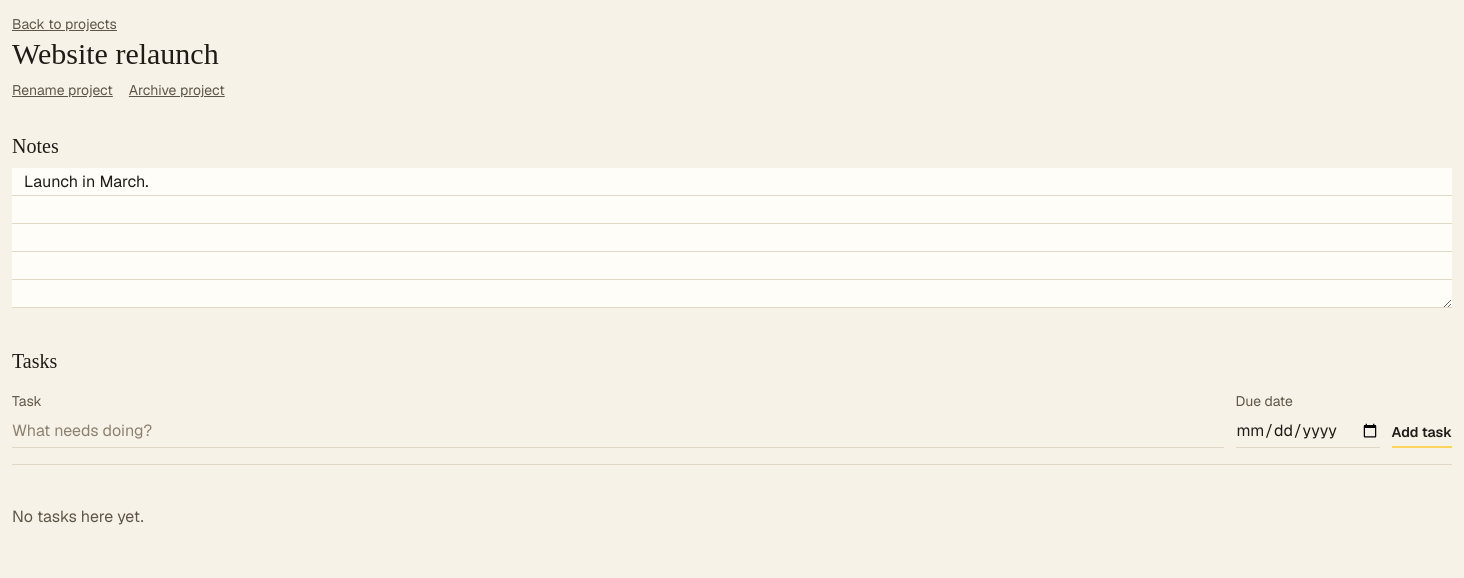
Scenario: Project screen › archives from the project page and stops taking new tasks
Click the button "Archive project" at (177, 90), box [129,80,225,100]
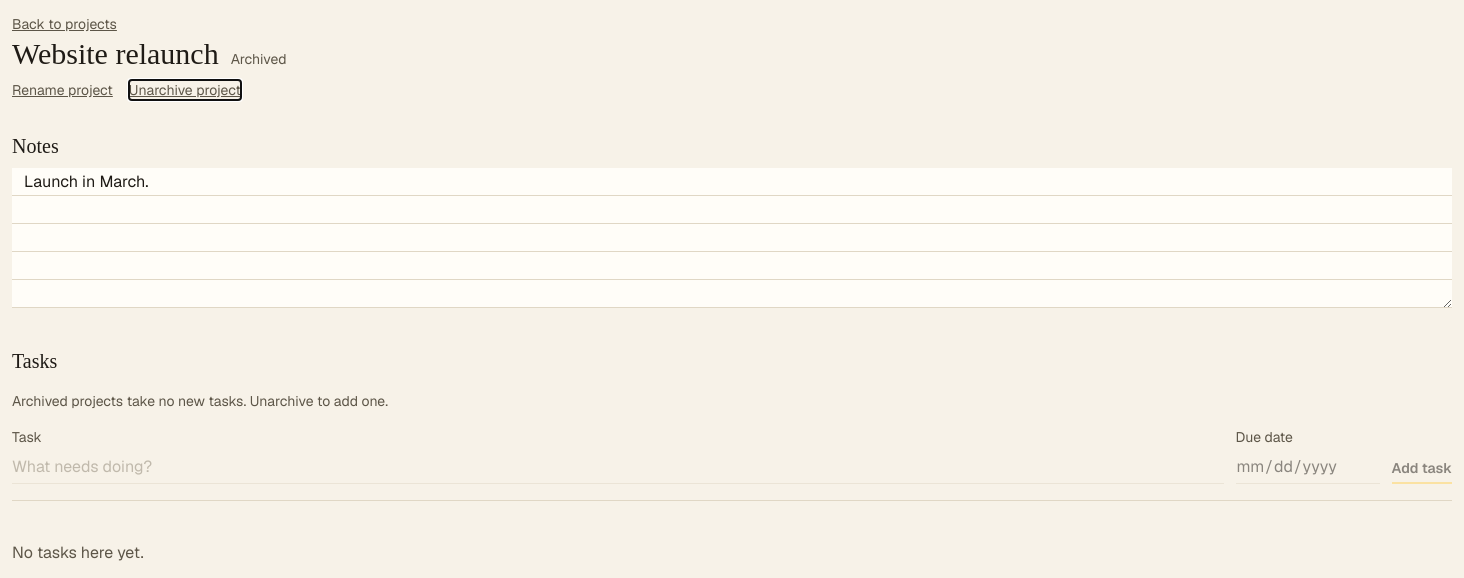
Expected: the text "Archived" is shown, [231,49,286,69]
Expected: the field labelled "Task" is disabled, [12,451,1224,484]
Expected: the button "Add task" is disabled, [1392,454,1452,484]
Click the button "Unarchive project" at (185, 90), box [129,80,241,100]
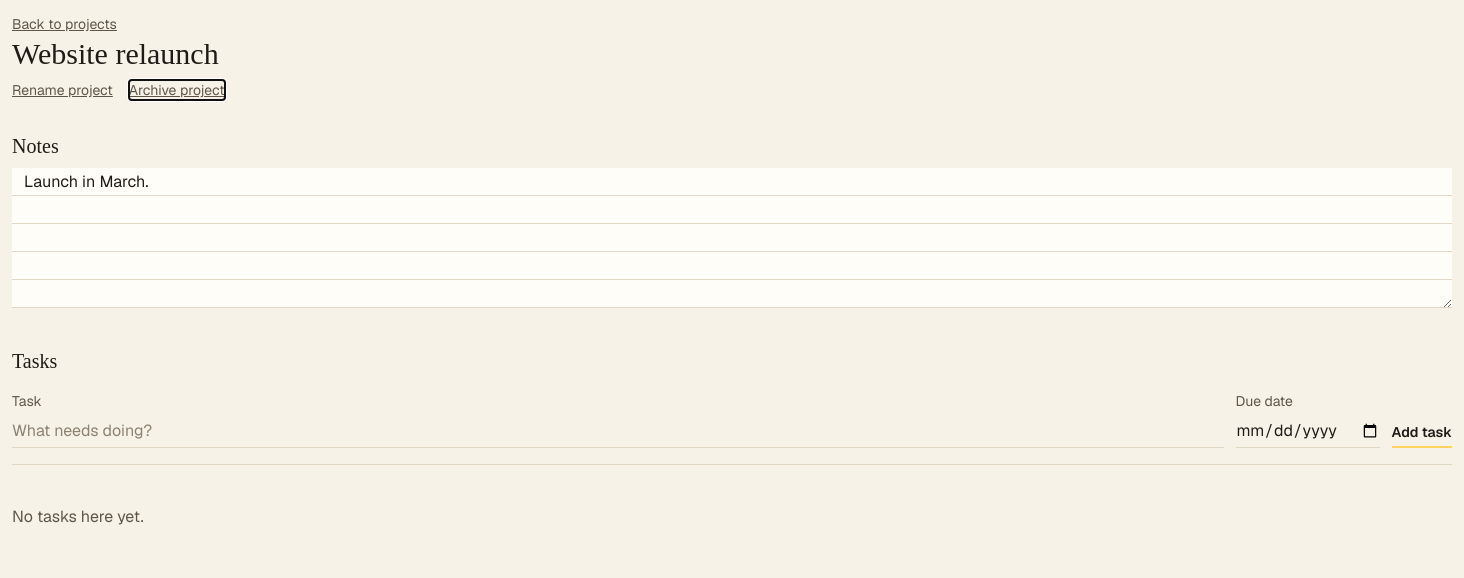
Expected: the field labelled "Task" is enabled, [12,415,1224,448]
